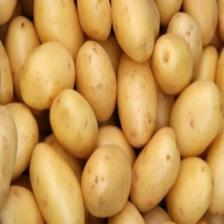potato: (29, 141, 85, 224), (130, 125, 181, 212), (168, 79, 224, 157), (18, 40, 76, 110), (117, 49, 158, 148), (80, 143, 132, 218), (49, 88, 99, 159), (75, 39, 117, 122), (150, 32, 194, 95), (111, 0, 155, 63)
